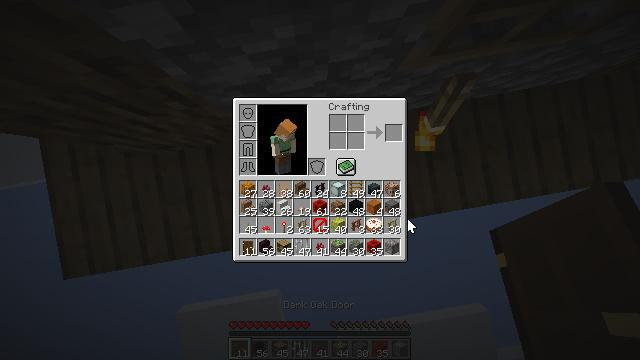cursor: (407, 218, 417, 234)
